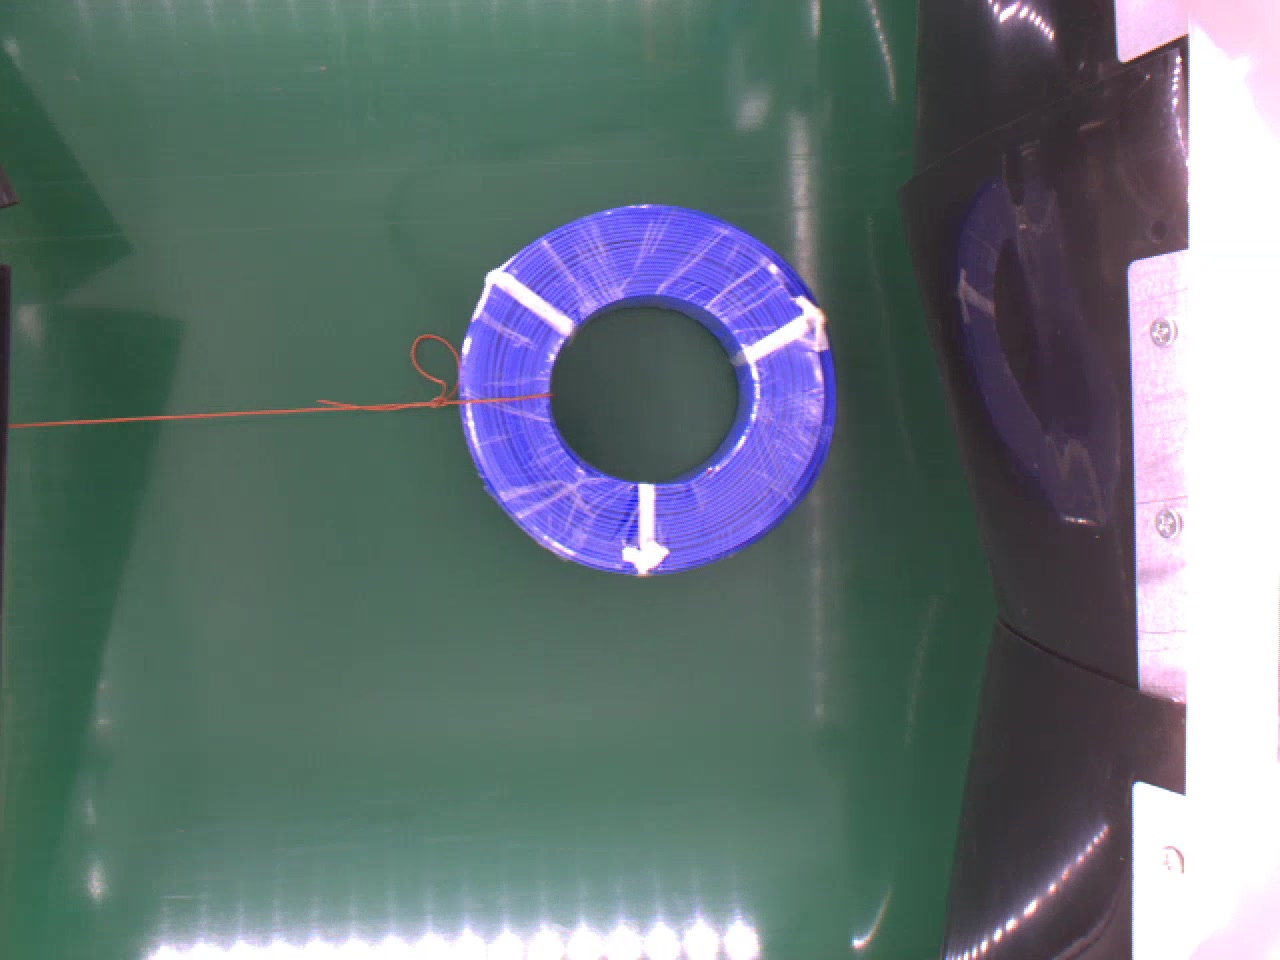blue: (453, 202, 845, 580)
